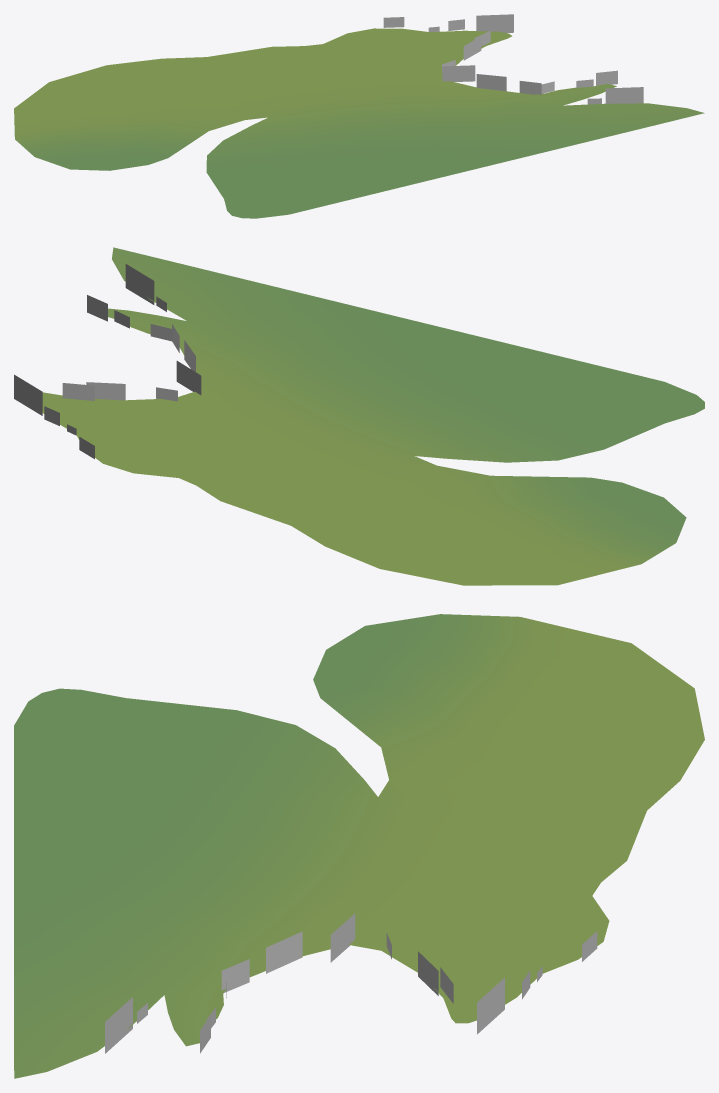
Rendered from Mesh_Battle_Forest_Ground_05.FBX.
3 renders of one model, top to bottom at view 1: azimuth 30°, elevation 25°; view 2: azimuth 150°, elevation 25°; view 3: azimuth 270°, elevation 25°, orthographic. The views are drawn at different scales.
Visible parts, largest first — view 1: Mesh_Battle_Forest_Ground_05, Mesh_Battle_Forest_Grass_12; view 2: Mesh_Battle_Forest_Ground_05, Mesh_Battle_Forest_Grass_12; view 3: Mesh_Battle_Forest_Ground_05, Mesh_Battle_Forest_Grass_12.
Boxes of the visible parts, x1=… form: Mesh_Battle_Forest_Ground_05: x1=14, y1=28, x2=704, y2=218; Mesh_Battle_Forest_Grass_12: x1=383, y1=14, x2=643, y2=104; Mesh_Battle_Forest_Ground_05: x1=42, y1=247, x2=704, y2=585; Mesh_Battle_Forest_Grass_12: x1=14, y1=264, x2=201, y2=459; Mesh_Battle_Forest_Ground_05: x1=14, y1=614, x2=704, y2=1078; Mesh_Battle_Forest_Grass_12: x1=105, y1=913, x2=597, y2=1053.
Bounding box in the file's own units: 620 × 19.99 × 389.
